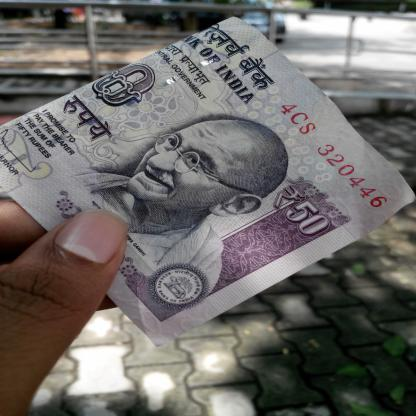Old50Front: (0, 16, 416, 348)
